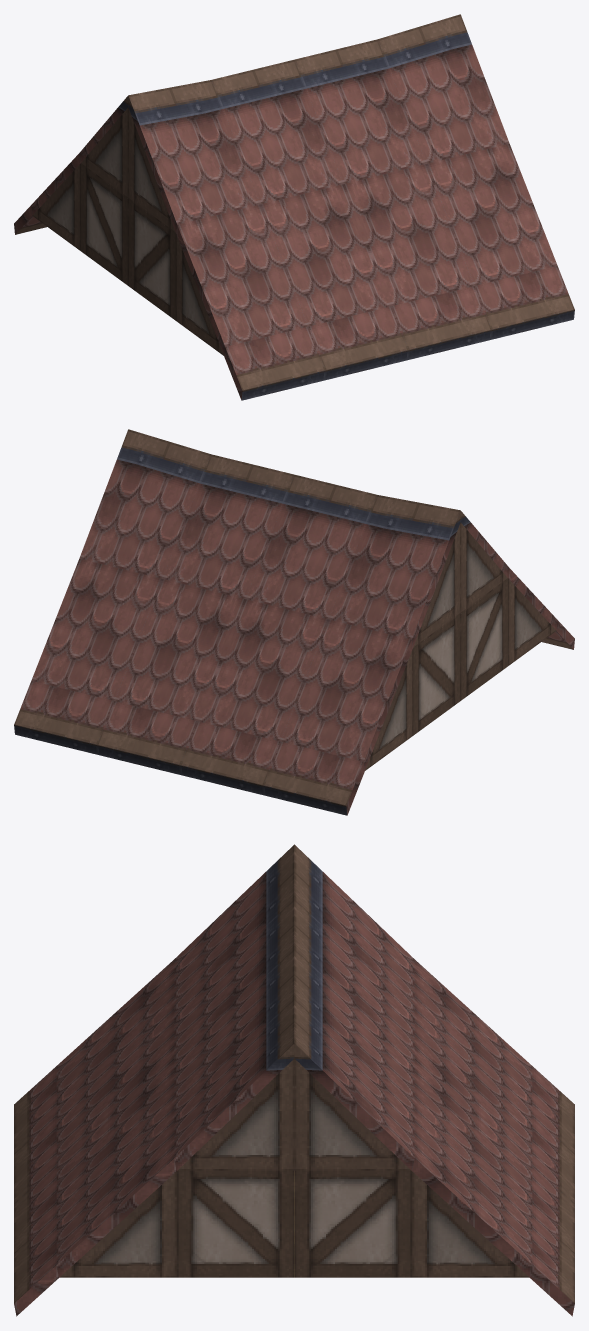
File: roof_red.glb
3 views of the same model, one above another, from view 1: azimuth 30°, elevation 25°; view 2: azimuth 150°, elevation 25°; view 3: azimuth 270°, elevation 25° (orthographic). The views are drawn at different scales.
Parts seen in each view (by area): view 1: roof_red; view 2: roof_red; view 3: roof_red.
Part boxes in pixels (box(x1,y1,x2,y2)): roof_red: box(14, 14, 574, 400); roof_red: box(14, 429, 574, 815); roof_red: box(14, 844, 574, 1316).
Size of the model in its own units: 4 by 2.56 by 4.76.
Materials: 1 (1 with a texture image).
